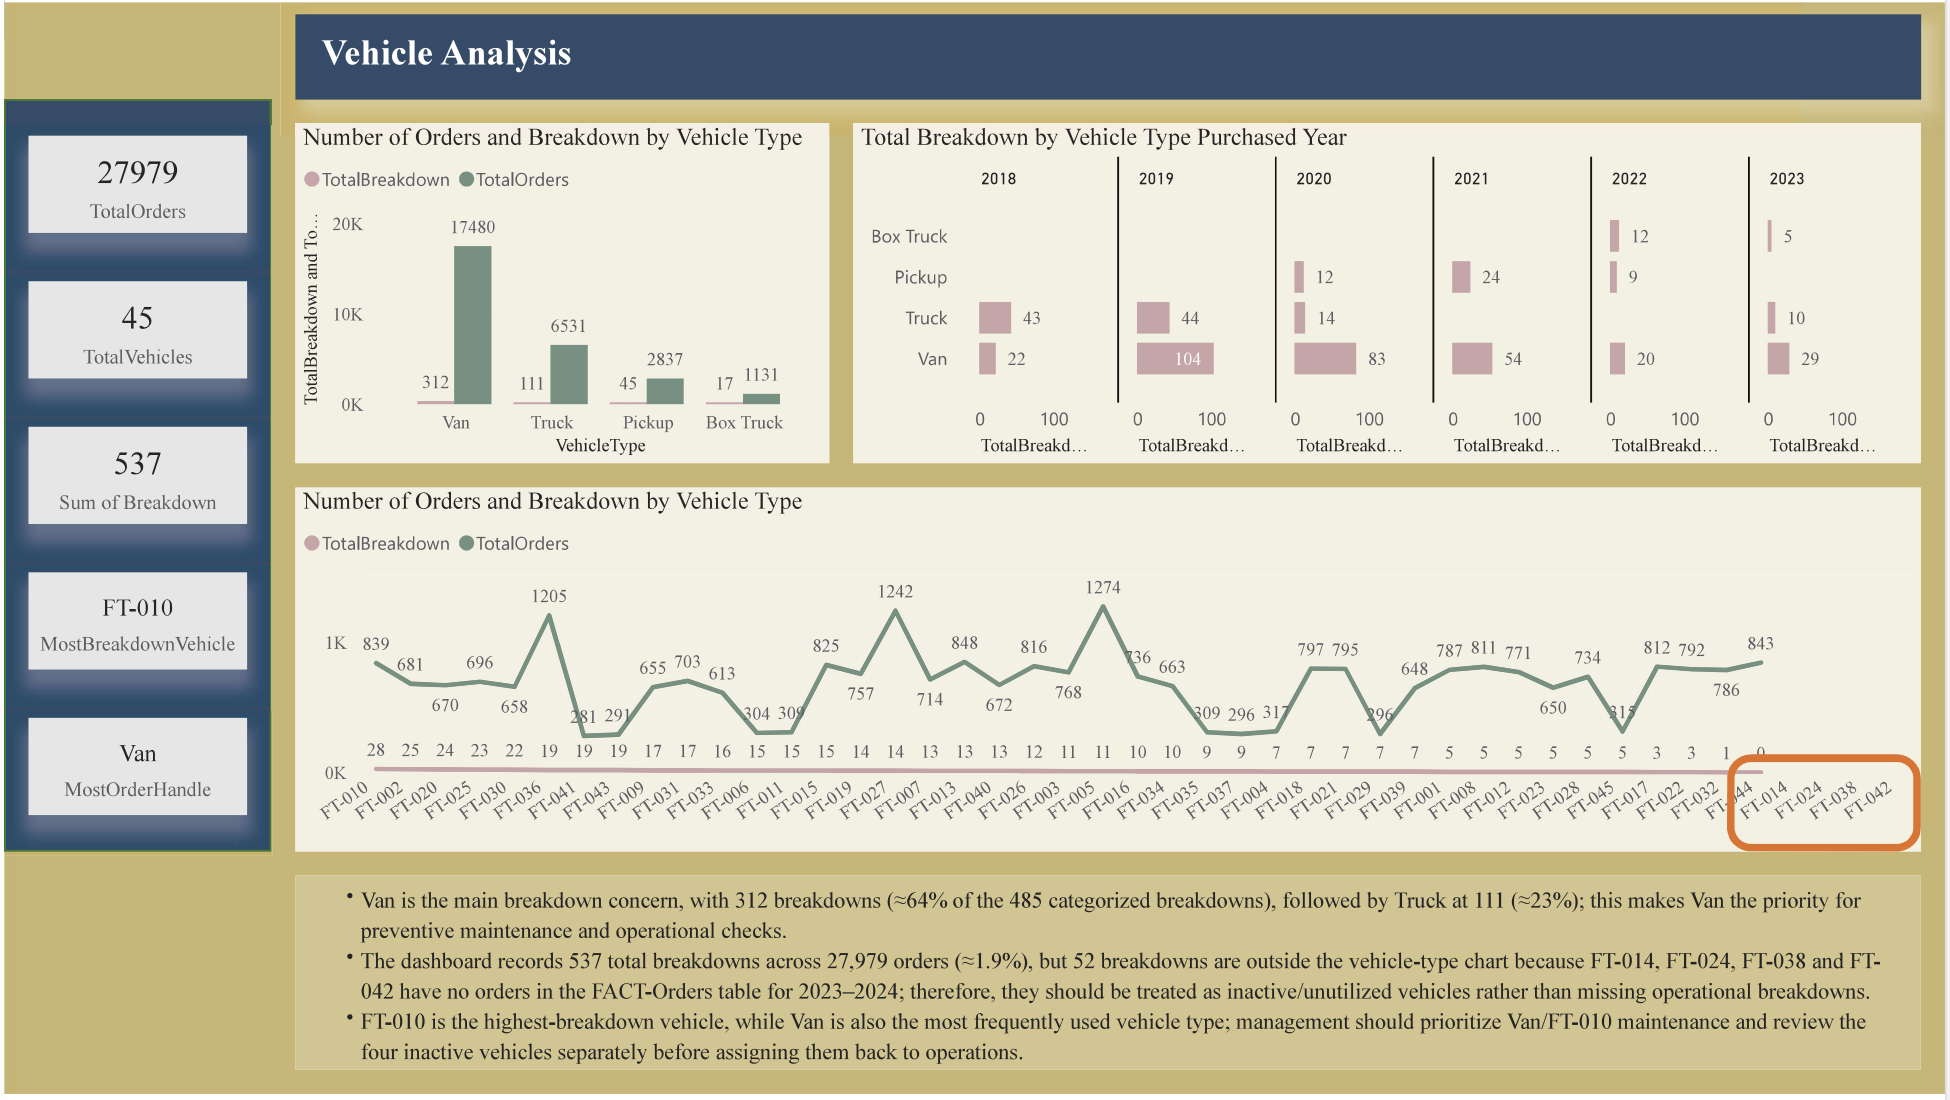

This screenshot's page, from the dashboard's own definition file:
{"tool":"powerbi","page":{"name":"Vehicle Analysis","canvas":[1280,720],"ordinal":3},"visuals":[{"type":"shape","box":[0,64,176,496],"z":0},{"type":"card","fields":{"Values":["FACT-Orders.TotalOrders"]},"box":[16,88.2,144,64],"z":1000},{"type":"card","fields":{"Values":["FACT-Orders.TotalVehicles"]},"box":[16,184.2,144,64],"z":2000},{"type":"card","fields":{"Values":["Sum(DIM-Vehicles.Breakdown)"]},"box":[16,280.2,144,64],"z":3000},{"type":"card","fields":{"Values":["FACT-Orders.MostBreakdownVehicle"]},"box":[16,375.6,144,64],"z":4000},{"type":"card","fields":{"Values":["FACT-Orders.MostOrderHandle"]},"box":[16,471.6,144,64],"z":5000},{"type":"textbox","box":[192,8,1072,56],"z":6000},{"type":"shape","box":[192,576,1072,128],"z":7000},{"type":"clusteredBarChart","title":"Total Breakdown by Vehicle Type Purchased Year","fields":{"Category":["DIM-VehicleType.VehicleType"],"Rows":["DIM-Vehicles.Purchase Date.Variation.Date Hierarchy.Year"],"Y":["FACT-Orders.TotalBreakdown"]},"box":[560,80,704,224],"z":8000},{"type":"clusteredColumnChart","title":"Number of Orders and Breakdown  by Vehicle Type","fields":{"Category":["DIM-VehicleType.VehicleType"],"Y":["FACT-Orders.TotalBreakdown","FACT-Orders.TotalOrders"]},"box":[192,80,352,224],"z":9000},{"type":"lineChart","title":"Number of Orders and Breakdown  by Vehicle Type","fields":{"Y":["FACT-Orders.TotalBreakdown","FACT-Orders.TotalOrders"],"Category":["DIM-Vehicles.Vehicle Code"]},"box":[192,320,1072,240],"z":10000},{"type":"textbox","box":[208,576,1040,144],"z":11000},{"type":"shape","box":[1136,496,128,64],"z":12000}]}

Visuals, with their boxes in screenshot pixels (x1, y1, x2, y2), scaled from the page's 1280x720 canvas onto the 1950x1100 screenshot:
shape: box=[0, 98, 268, 856]
card - FACT-Orders.TotalOrders: box=[24, 135, 244, 233]
card - FACT-Orders.TotalVehicles: box=[24, 281, 244, 379]
card - Sum(DIM-Vehicles.Breakdown): box=[24, 428, 244, 526]
card - FACT-Orders.MostBreakdownVehicle: box=[24, 574, 244, 672]
card - FACT-Orders.MostOrderHandle: box=[24, 720, 244, 818]
textbox: box=[292, 12, 1926, 98]
shape: box=[292, 880, 1926, 1076]
"Total Breakdown by Vehicle Type Purchased Year" clusteredBarChart: box=[853, 122, 1926, 464]
"Number of Orders and Breakdown  by Vehicle Type" clusteredColumnChart: box=[292, 122, 829, 464]
"Number of Orders and Breakdown  by Vehicle Type" lineChart: box=[292, 489, 1926, 856]
textbox: box=[317, 880, 1901, 1099]
shape: box=[1731, 758, 1926, 856]
